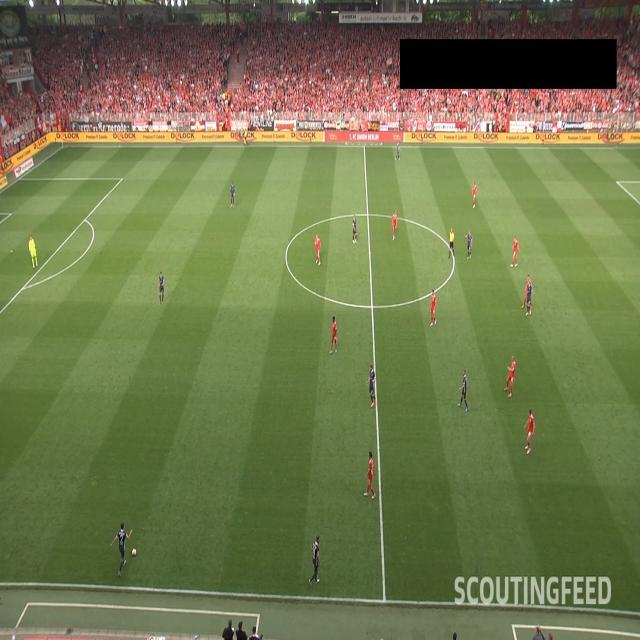ball: (132, 548, 136, 558)
